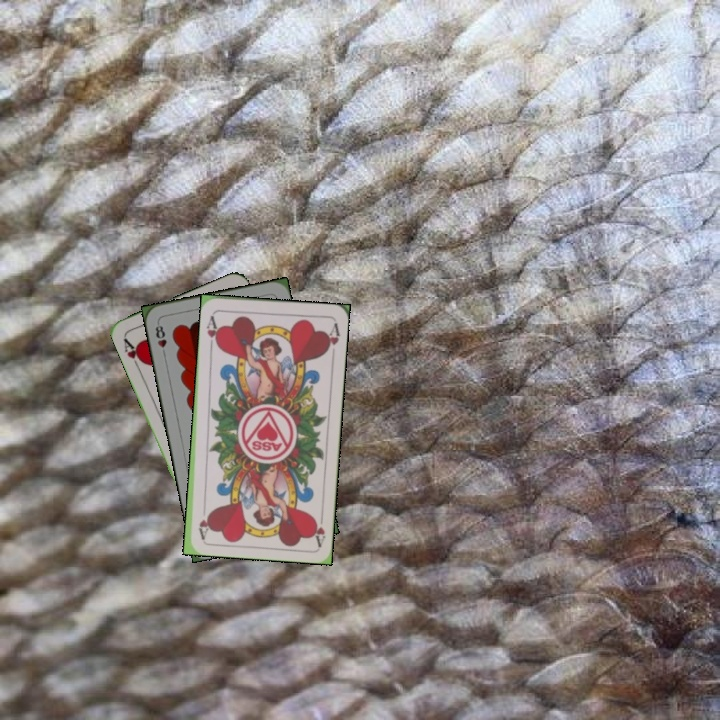H8: (151, 319, 169, 359)
HA: (120, 334, 147, 372), (202, 310, 222, 351), (309, 507, 328, 547)
